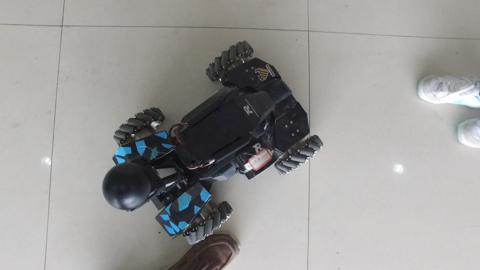chariot: (96, 43, 308, 220)
